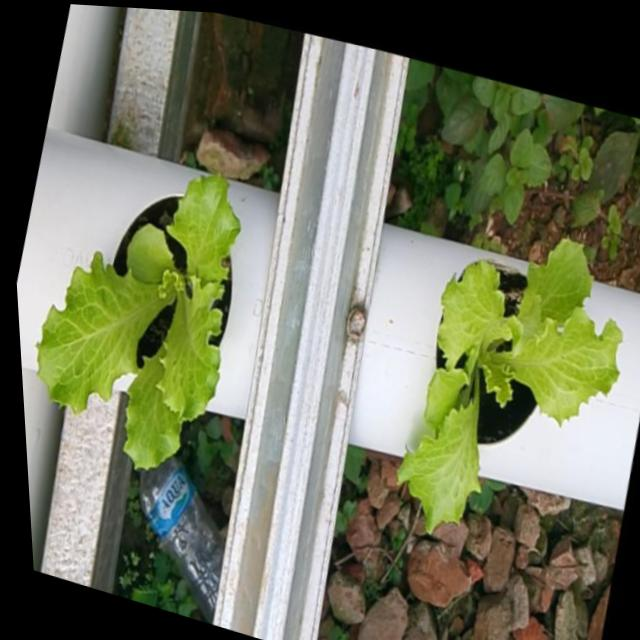Baby: (402, 236, 628, 530), (40, 169, 245, 467)
